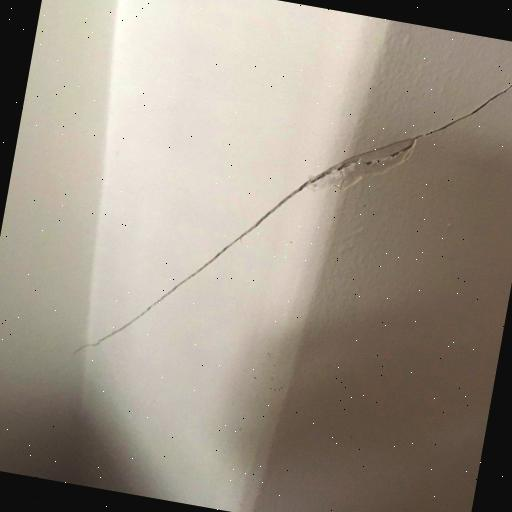spalling: (90, 65, 512, 352)
